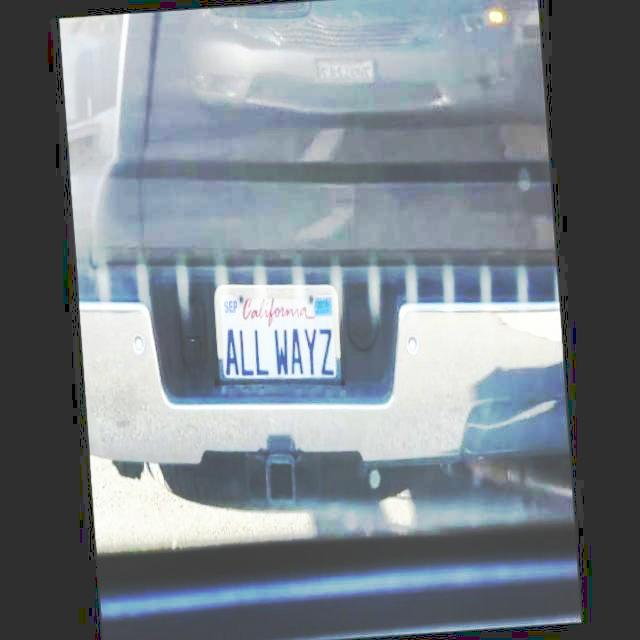license_plate: (201, 277, 357, 393)
